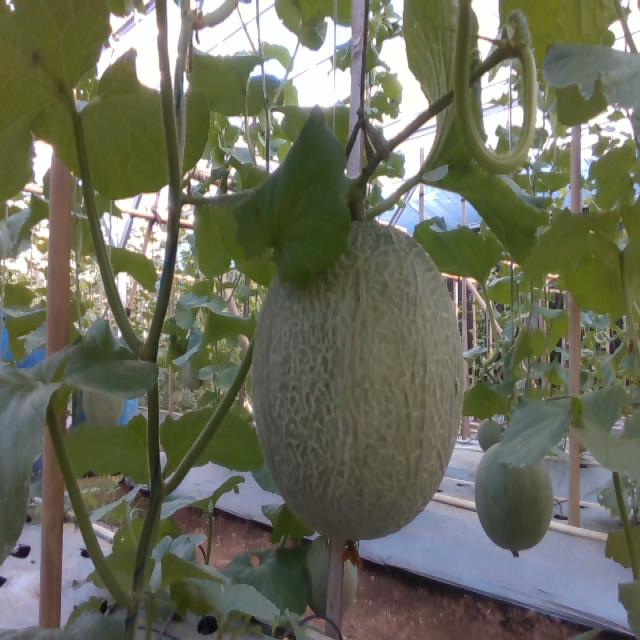melon: (254, 221, 464, 541)
